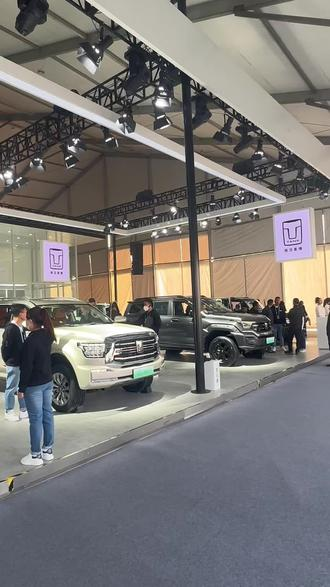other: (6, 293, 165, 401), (117, 292, 278, 358)
